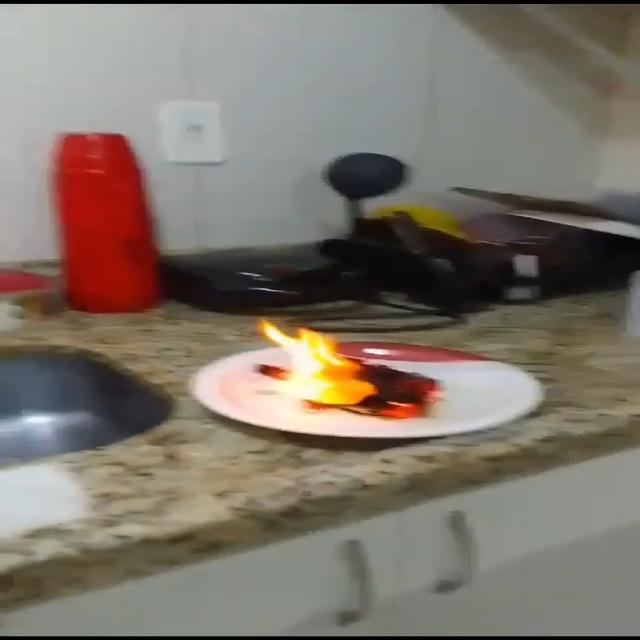fogo-ypXI: (256, 318, 447, 422)
